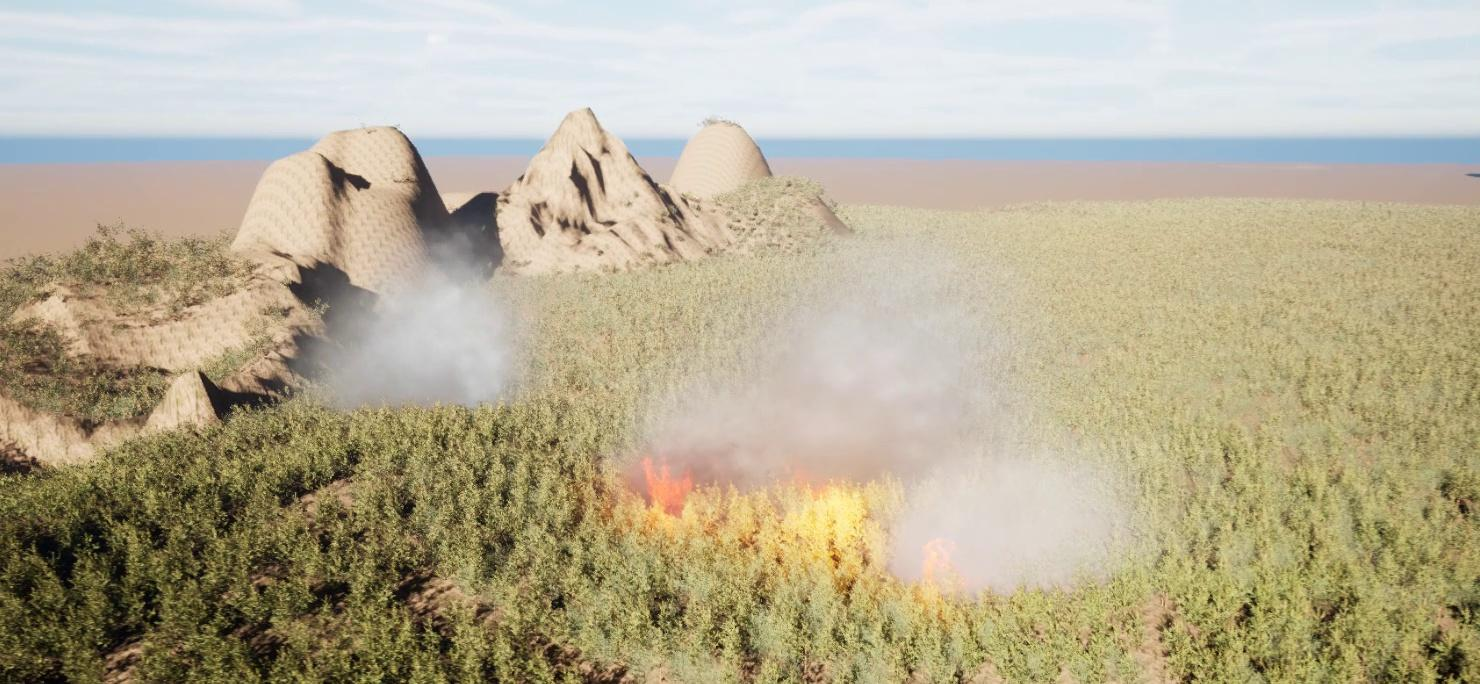fire: (772, 458, 863, 556), (630, 453, 695, 523), (915, 541, 963, 590)
smoke: (634, 227, 1147, 600), (275, 221, 553, 417)
